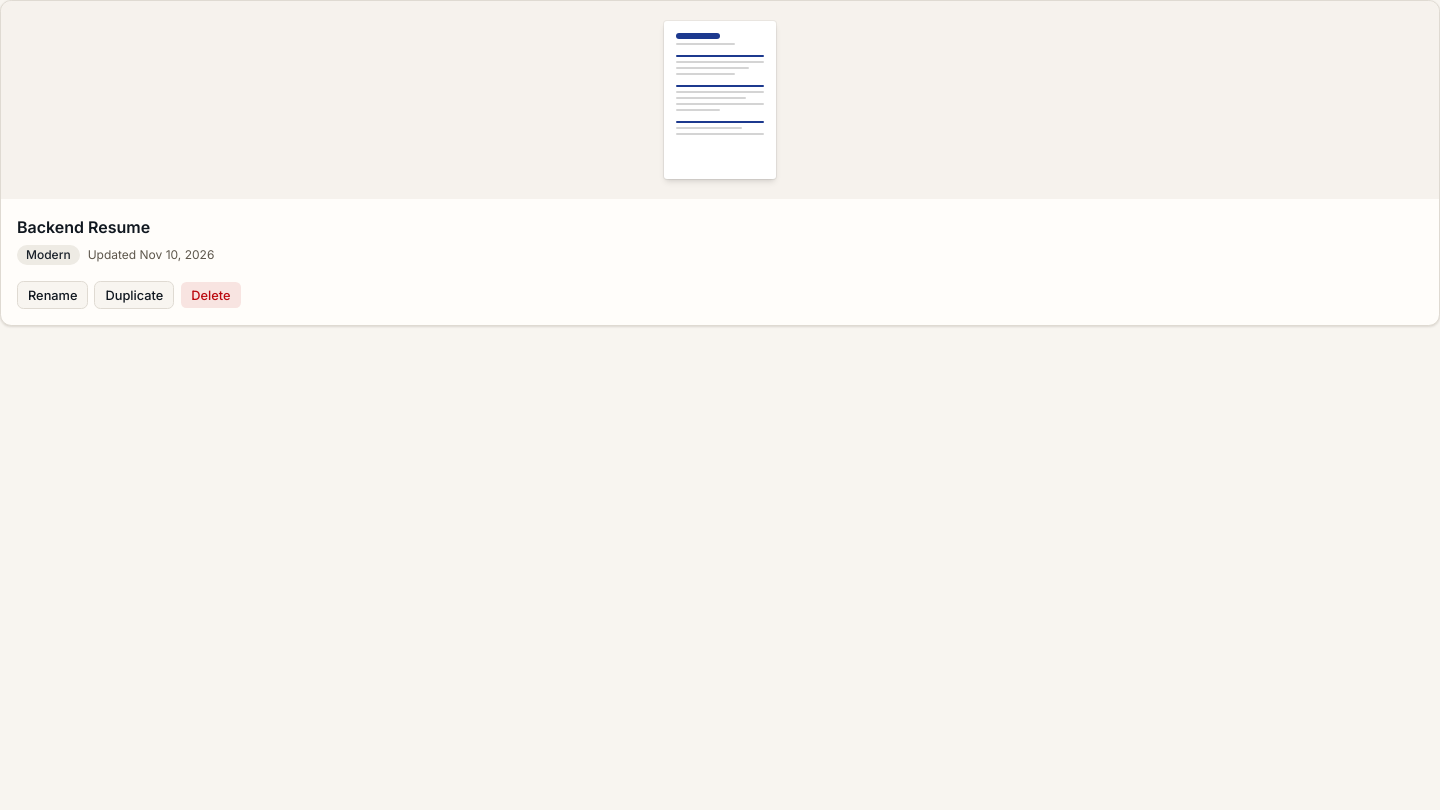
Test case: ResumeCard › asks in a dialog before deleting, naming the resume, and does nothing if cancelled
Click the button "Delete": point(211, 295) [180,281,242,309]
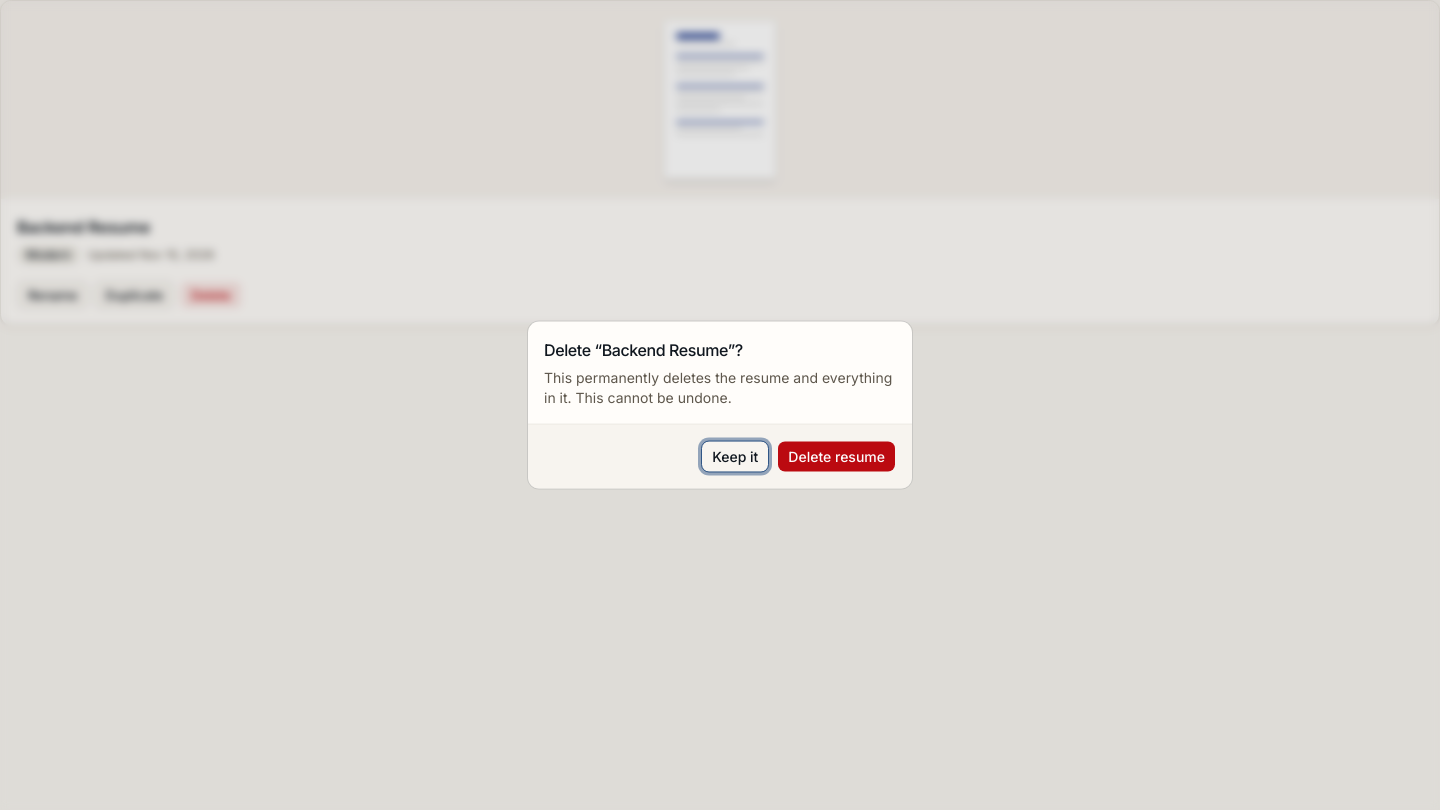
Result: the heading "Delete “Backend Resume”?" is shown at [544,338,743,362]
Result: the text "cannot be undone" is shown at [544,368,892,406]
Click the button "Keep it": point(735, 456) [701,440,769,472]
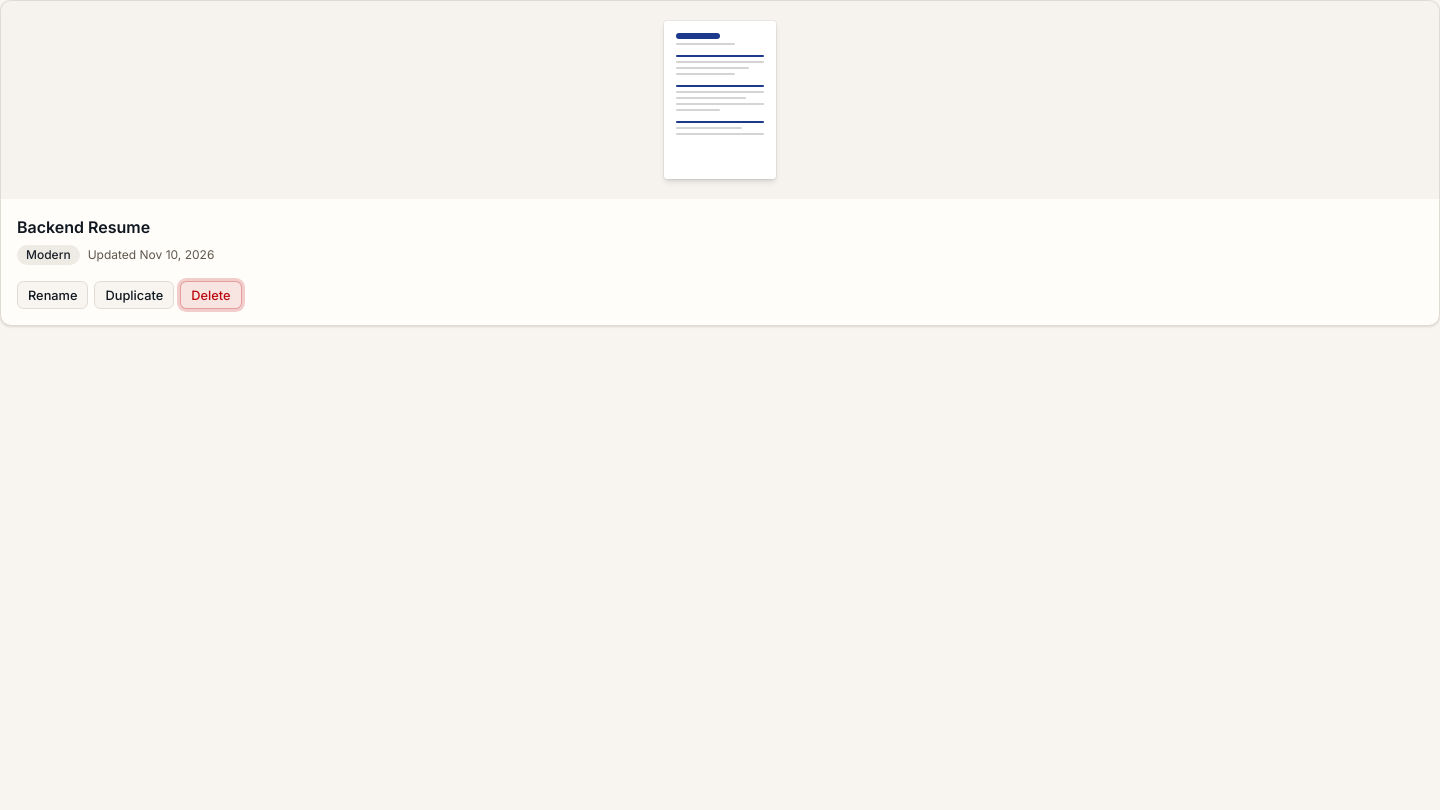
Result: the dialog is gone
